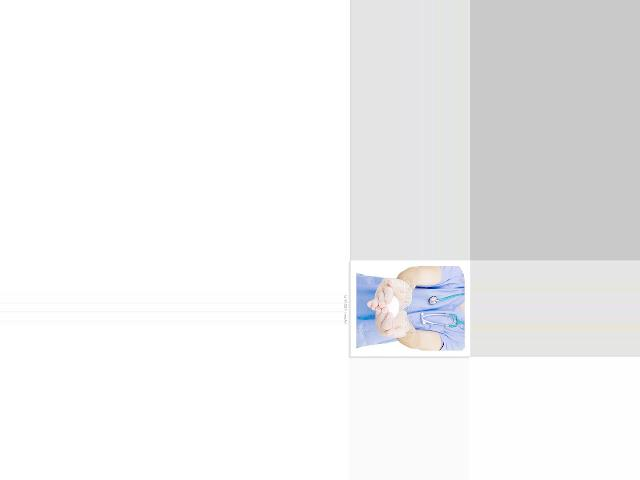egg: (385, 296, 399, 318)
